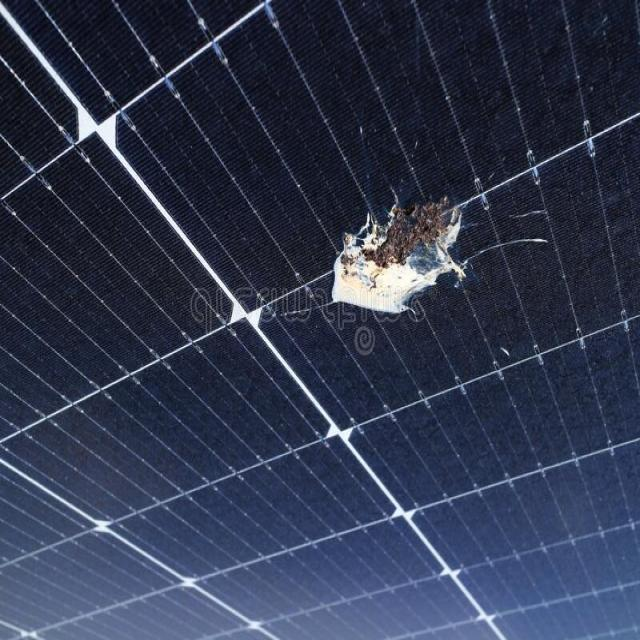soiled: (21, 6, 640, 446)
